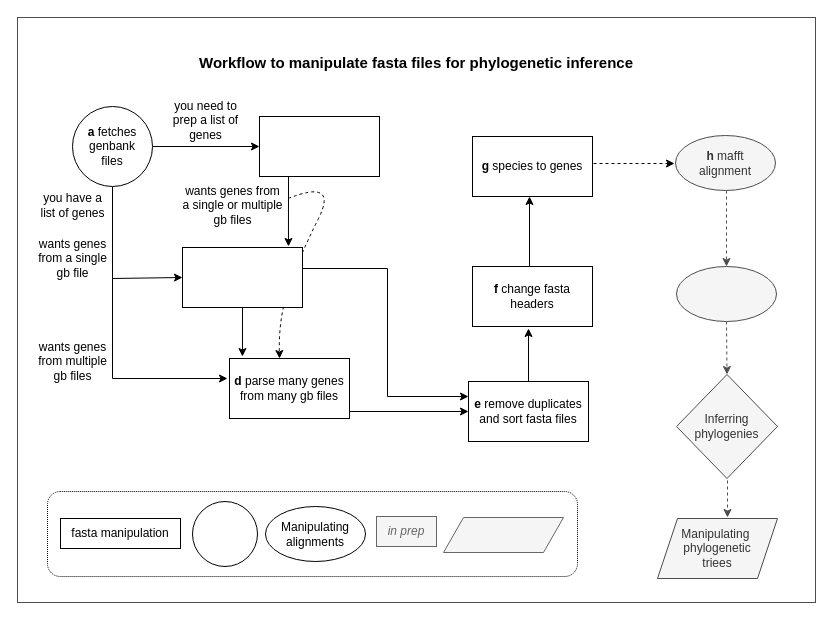
Image size: 833x620. Some labels were removed from this diagram. Each missing label, with the centre of its shape:
"b gets list of genes of interest" goes at point (319, 146).
"c parse many genes from a single gb file" goes at point (242, 277).
"scraping genebank" goes at point (225, 533).
"tree manipulation" goes at point (503, 534).
"Trimming alignments" goes at point (726, 294).
